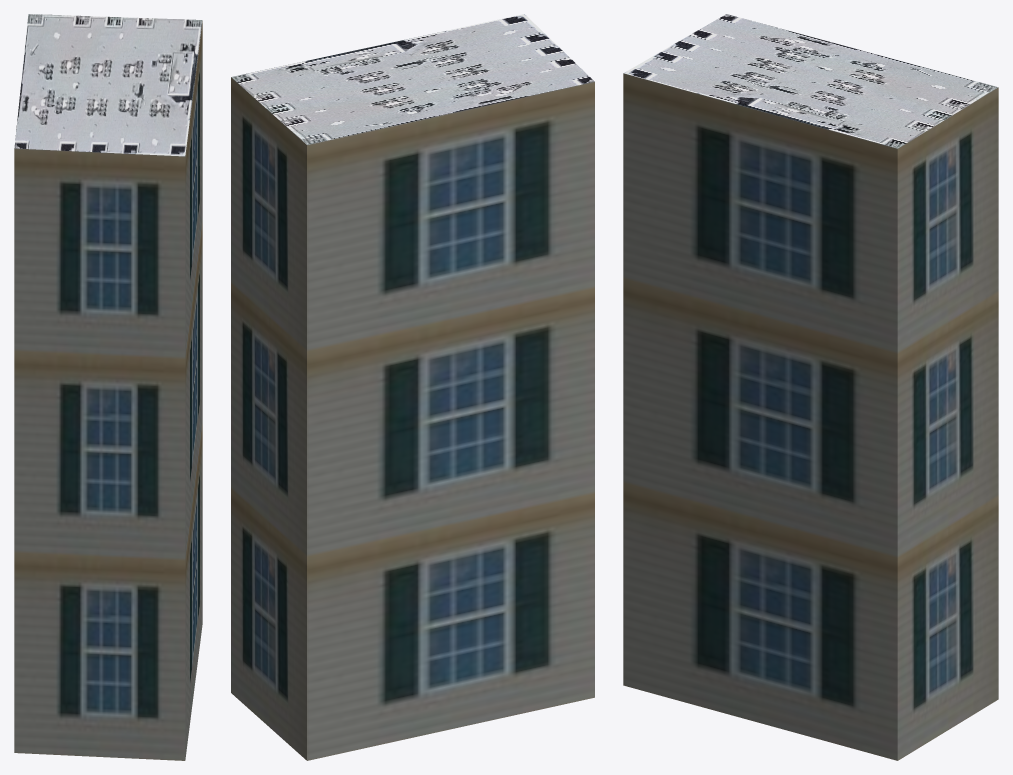
File: ResTex__2248.fbx
3 views of the same model, side by side, from view 1: azimuth 30°, elevation 25°; view 2: azimuth 150°, elevation 25°; view 3: azimuth 270°, elevation 25° (orthographic).
Parts seen in each view (by area): view 1: CityEngineMaterial_7_m, CityEngineMaterial_4_m; view 2: CityEngineMaterial_7_m, CityEngineMaterial_4_m; view 3: CityEngineMaterial_7_m, CityEngineMaterial_4_m.
Boxes of the visible parts, <box> form: CityEngineMaterial_7_m: <box>14,21,202,760</box>; CityEngineMaterial_4_m: <box>14,14,202,156</box>; CityEngineMaterial_7_m: <box>231,77,594,760</box>; CityEngineMaterial_4_m: <box>231,14,594,144</box>; CityEngineMaterial_7_m: <box>623,73,998,760</box>; CityEngineMaterial_4_m: <box>624,14,998,148</box>.
Bounding box in the file's own units: 4.25 × 9 × 5.
2 materials, 2 textured.
